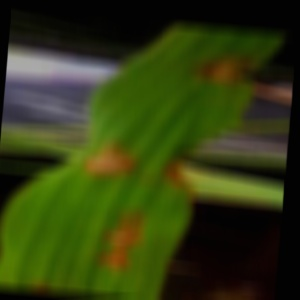Brown_Spot: (190, 45, 260, 99), (81, 129, 138, 186), (97, 199, 146, 249), (88, 249, 141, 283)
